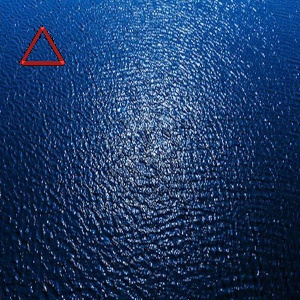triangle: (16, 22, 67, 68)
